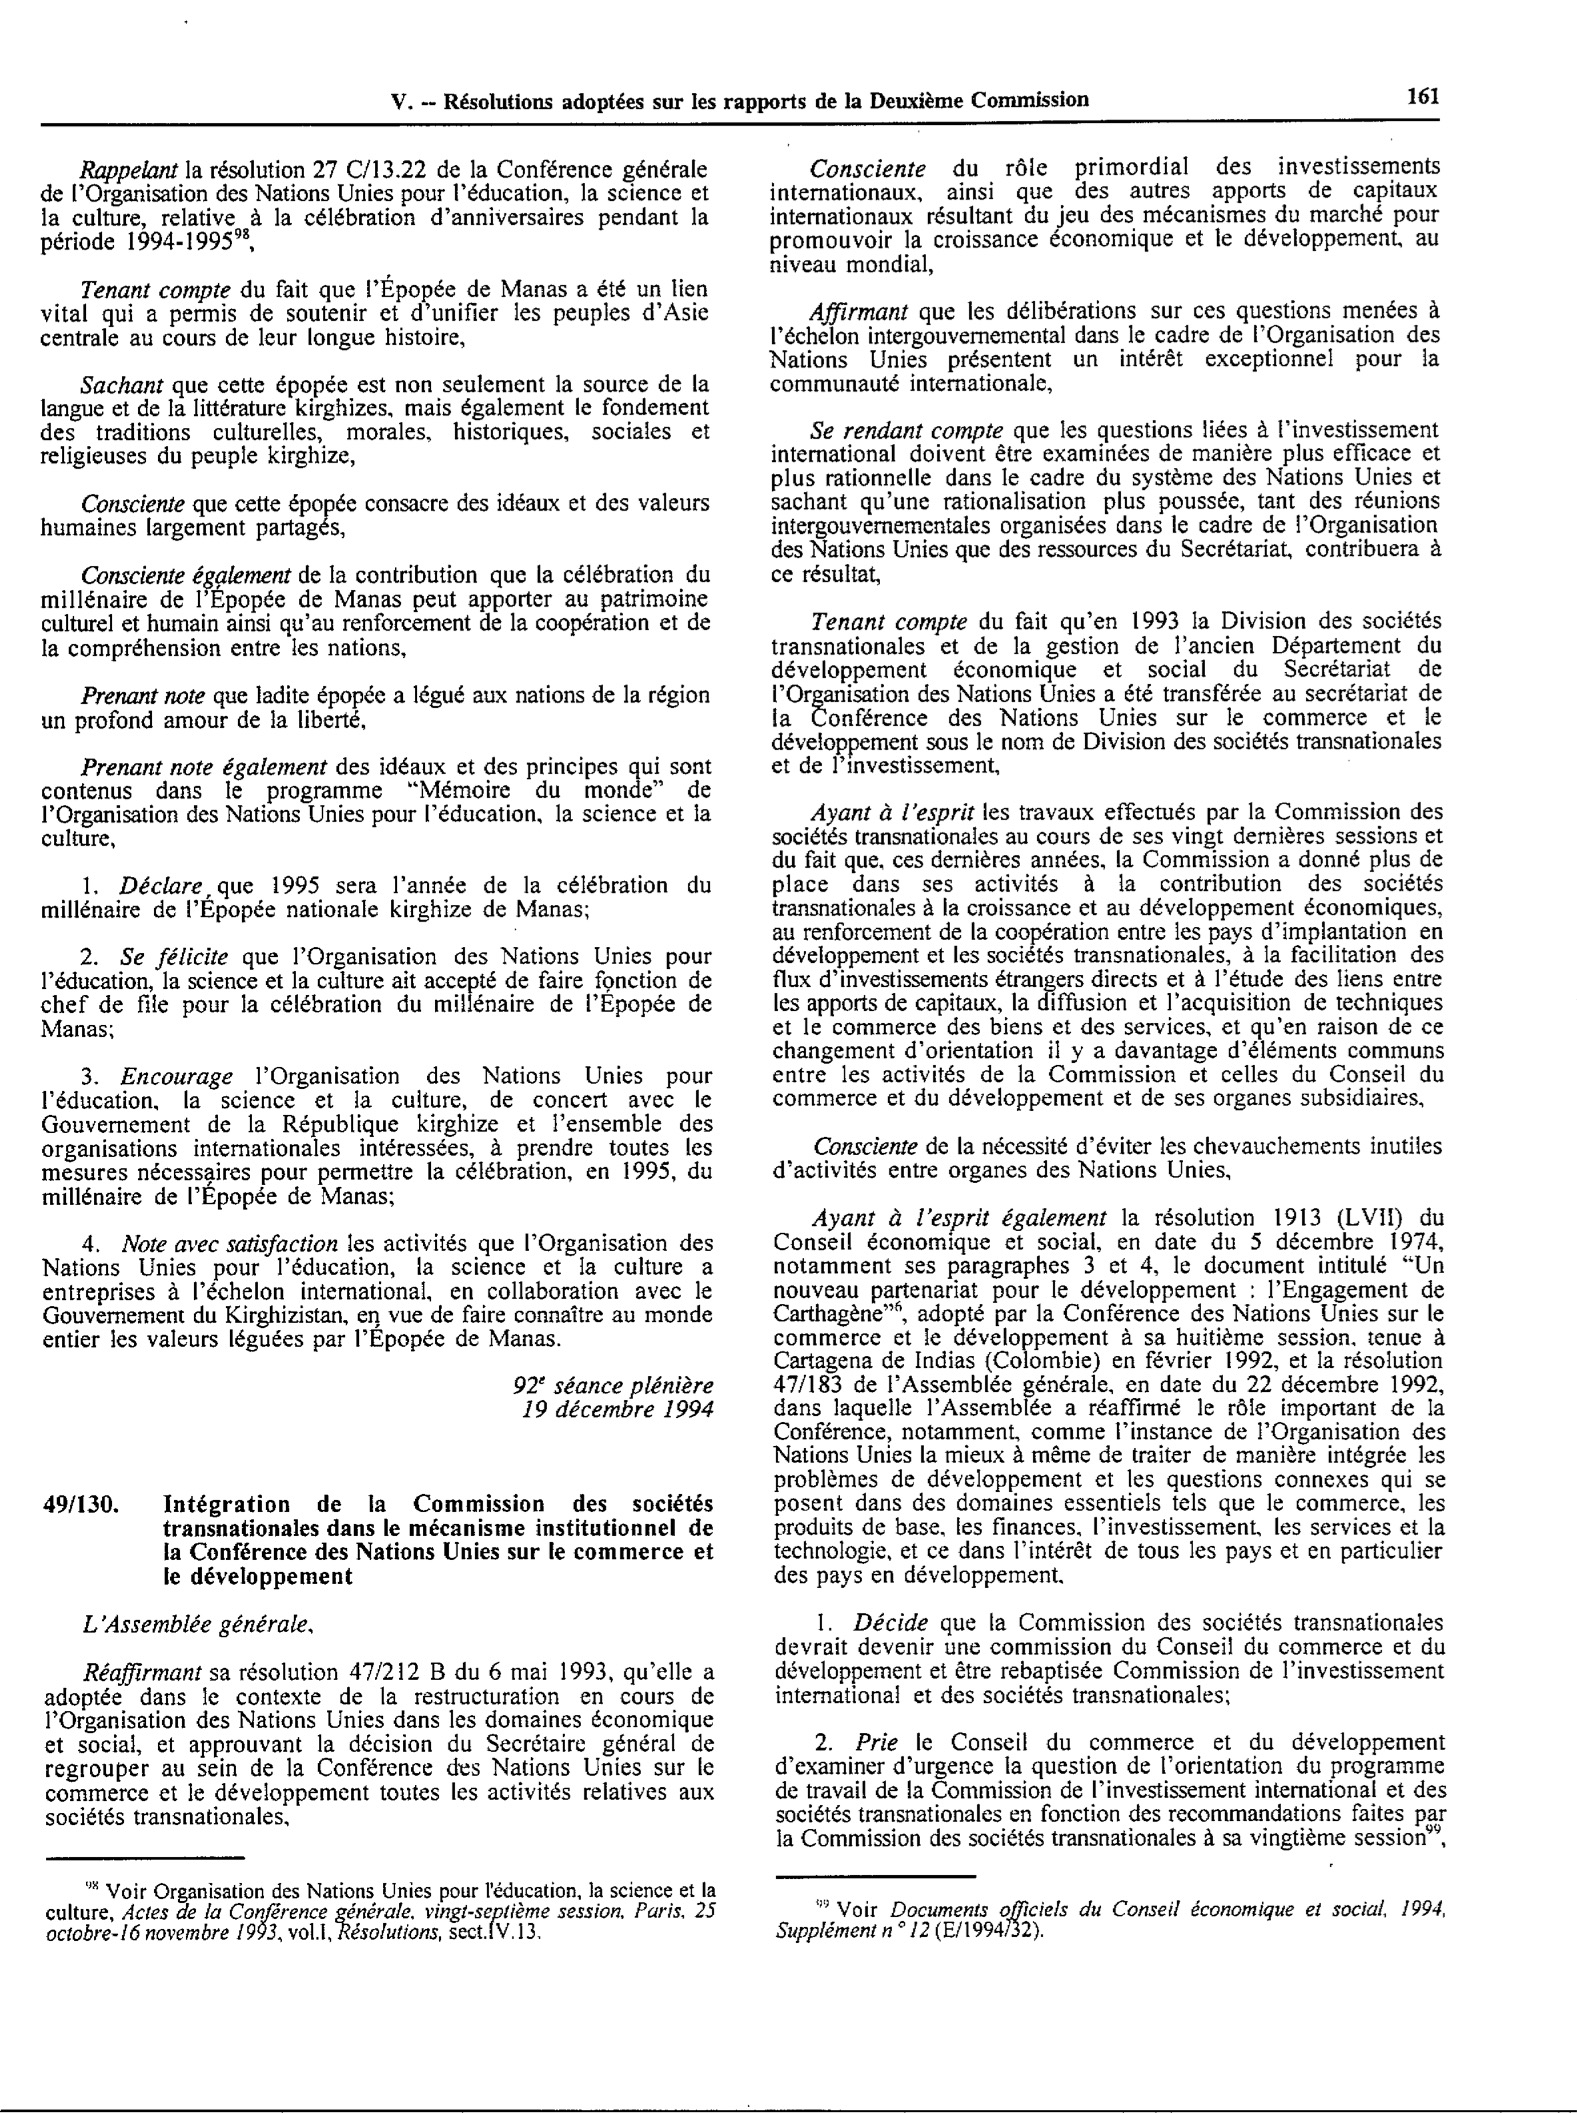MainZone-Date: (507, 1404, 719, 1427)
MainZone-Head: (37, 1481, 722, 1593)
MainZone-ListItem: (33, 1056, 723, 1214), (34, 1226, 722, 1358), (769, 1726, 1453, 1856), (767, 1605, 1451, 1713), (31, 938, 720, 1043), (33, 865, 719, 931)
MainZone-P: (765, 1200, 1453, 1590), (766, 794, 1452, 1116), (37, 1656, 725, 1834), (765, 604, 1448, 782), (763, 414, 1447, 590), (762, 148, 1446, 282), (762, 292, 1446, 402), (32, 151, 714, 261), (34, 558, 718, 667), (31, 749, 718, 857), (33, 369, 717, 475), (31, 273, 715, 357), (763, 1129, 1453, 1191), (33, 677, 717, 739), (33, 488, 716, 548), (72, 1604, 322, 1643)
MainZone-Signature: (502, 1367, 723, 1404)
MarginTextZone-Notes: (37, 1873, 722, 1959), (768, 1892, 1455, 1958)
StampZone: (379, 79, 1098, 126)
TitlePageZone: (1402, 78, 1444, 115)
